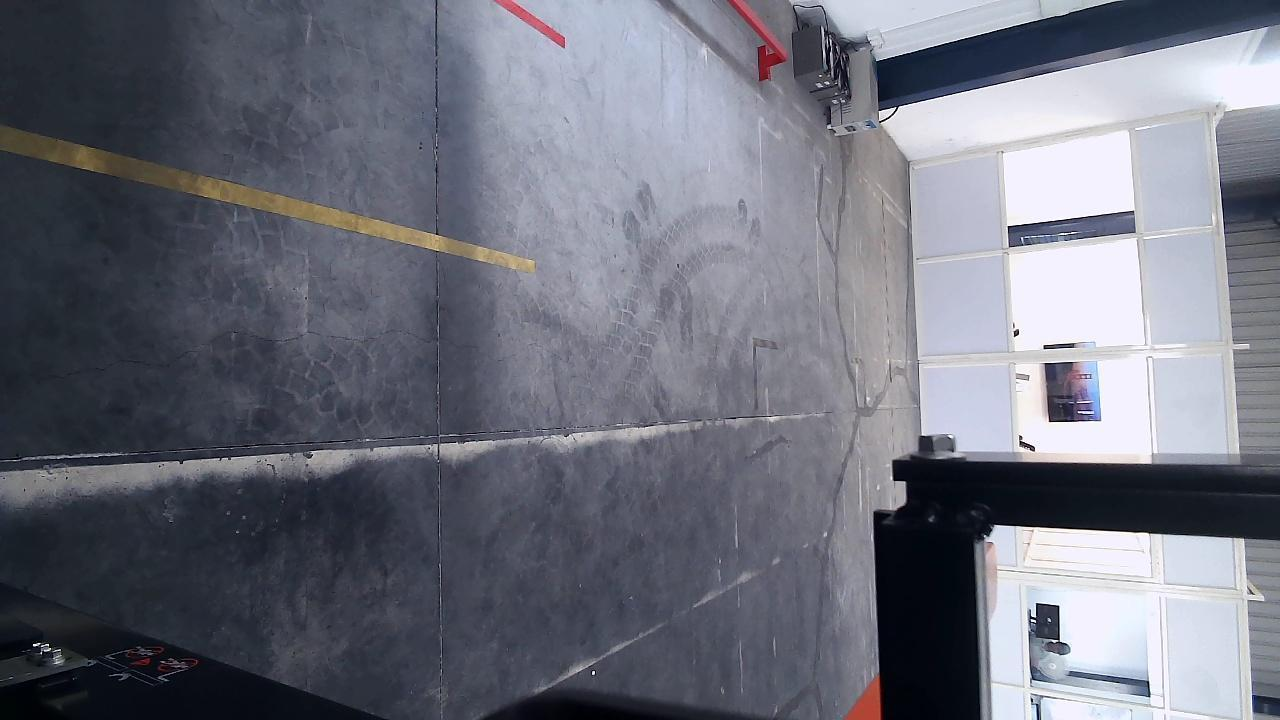yellow_line: (0, 127, 535, 273)
